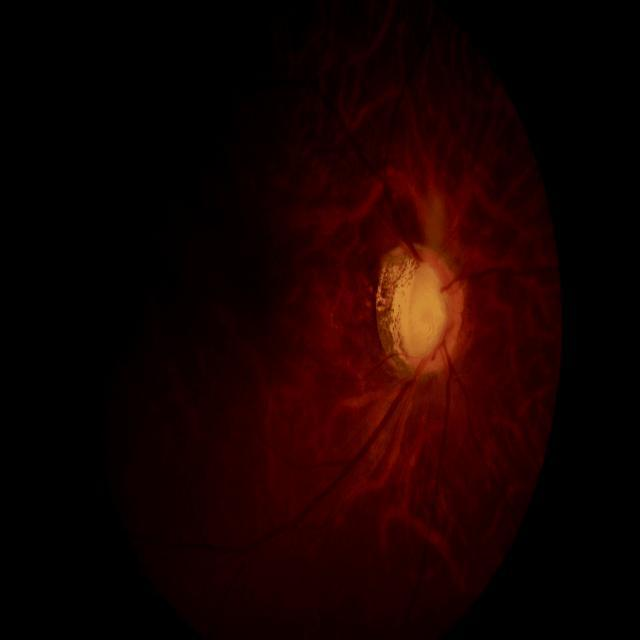cup: (408, 263, 452, 355)
disk: (407, 254, 463, 370)
